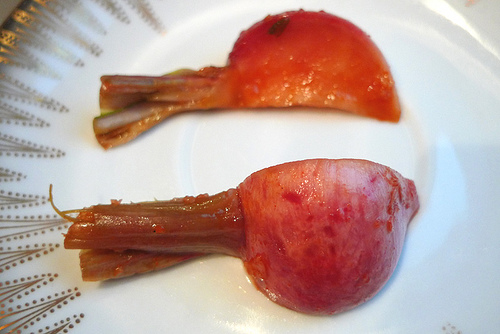turnip: (44, 151, 425, 323), (90, 4, 407, 151)
